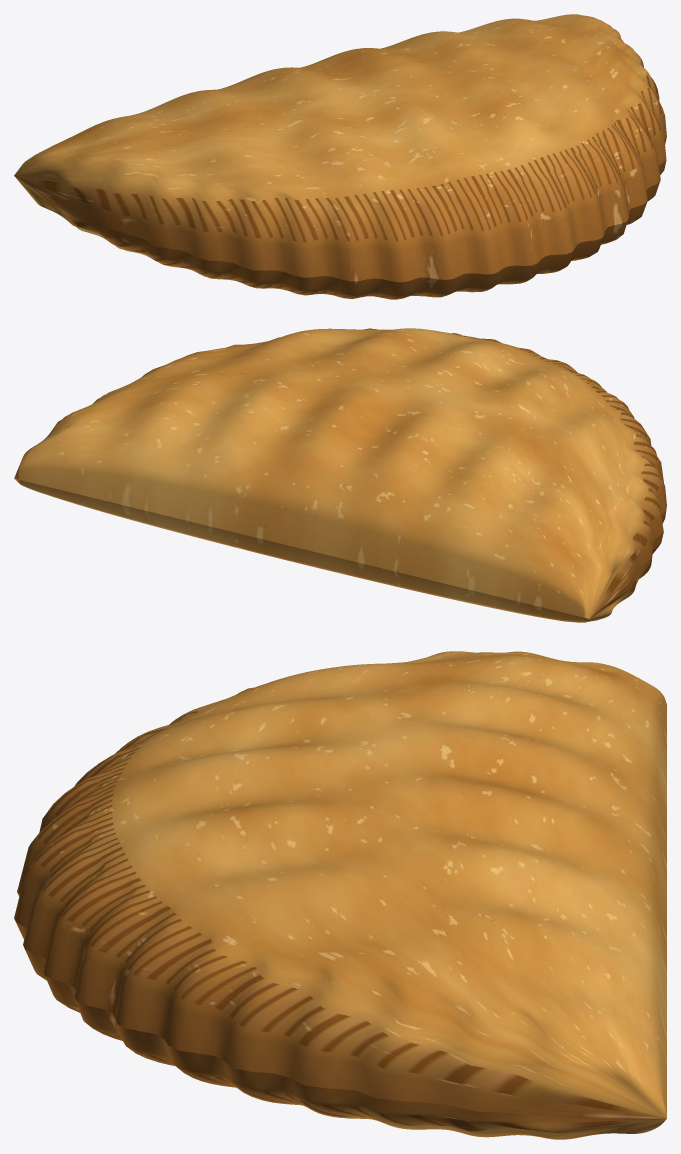
Rendered from pastel.glb.
3 renders of one model, top to bottom at view 1: azimuth 30°, elevation 25°; view 2: azimuth 150°, elevation 25°; view 3: azimuth 270°, elevation 25°, orthographic. The views are drawn at different scales.
Parts seen in each view (by area): view 1: pastel; view 2: pastel; view 3: pastel.
Part boxes in pixels (x1,y1,x2,y2): pastel: (14, 14, 666, 299); pastel: (14, 328, 666, 622); pastel: (14, 651, 666, 1139).
Bounding box in the file's own units: 0.12 × 0.03 × 0.08.
1 material, 1 textured.
